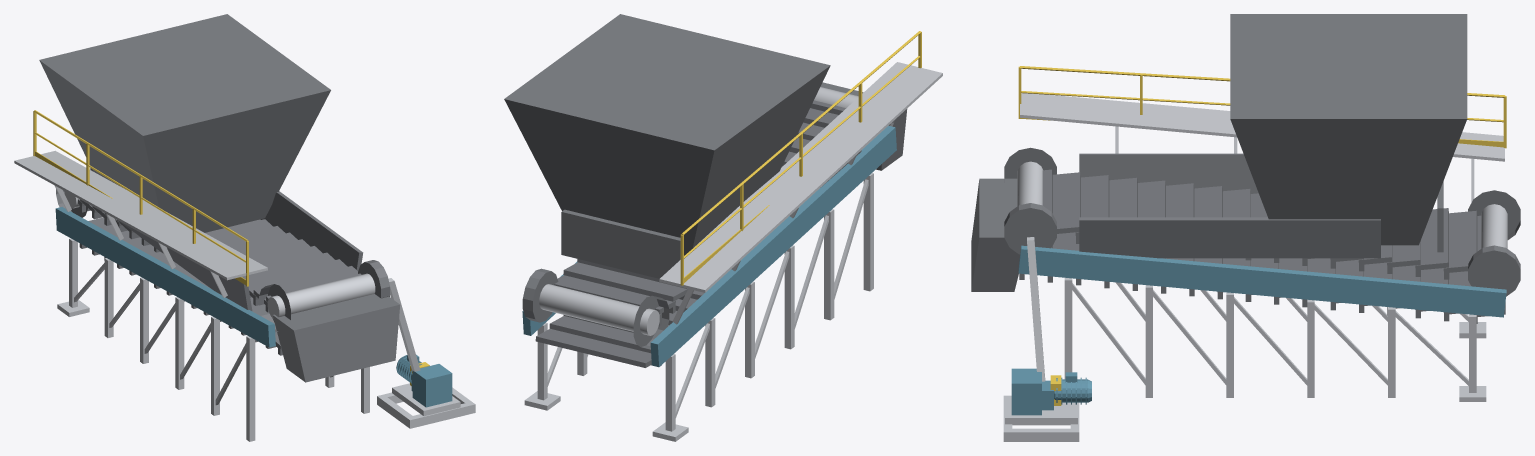
File: ore-processing-and-haulage-plant-apron-feeder-3357b8e3.glb
The picture shows the model from 3 angles, left to right: view 1: azimuth 30°, elevation 25°; view 2: azimuth 150°, elevation 25°; view 3: azimuth 270°, elevation 25°; orthographic projection. The views are drawn at different scales.
Visible parts, largest first — view 1: apron-feeder; view 2: apron-feeder; view 3: apron-feeder.
Boxes of the visible parts, x1=… form: apron-feeder: x1=14, y1=14, x2=475, y2=441; apron-feeder: x1=504, y1=14, x2=942, y2=441; apron-feeder: x1=971, y1=14, x2=1520, y2=441.
Bounding box in the file's own units: 5.9 × 6.1 × 10.19.
